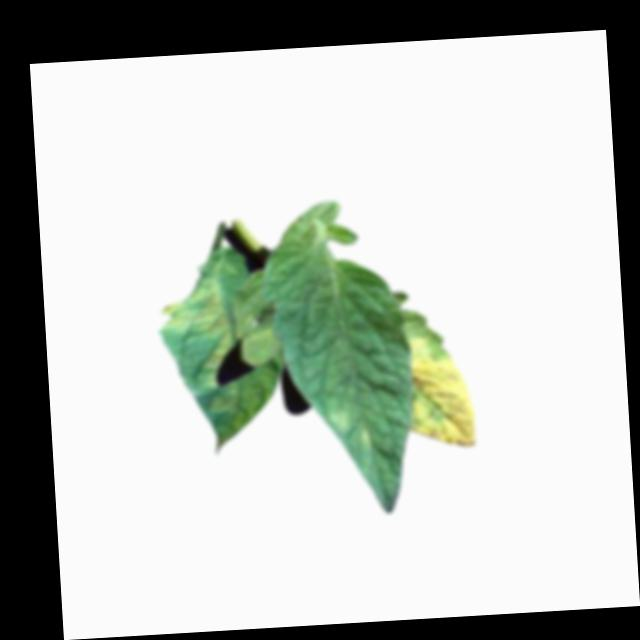Leaf_Mold: (153, 268, 284, 440), (401, 329, 479, 450), (323, 406, 374, 452)
